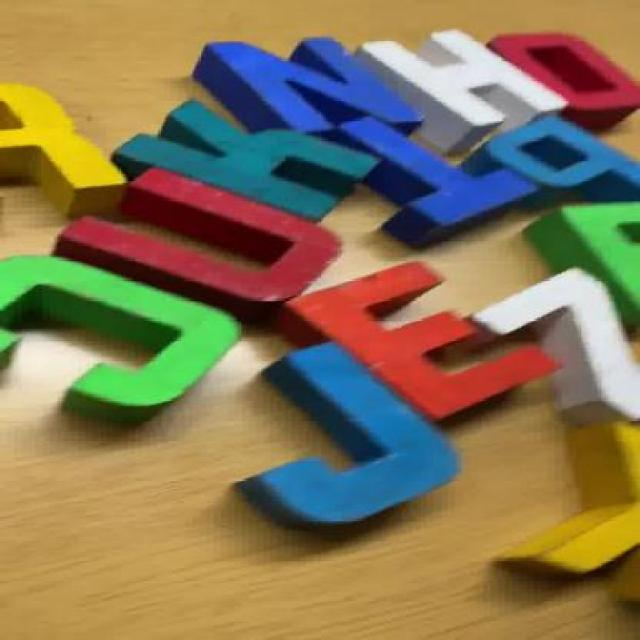E: (256, 251, 576, 443)
H: (358, 18, 578, 158)
J: (223, 340, 477, 552)
K: (98, 92, 394, 232)
N: (188, 28, 434, 140)
O: (492, 23, 638, 132)
U: (29, 158, 360, 320)
